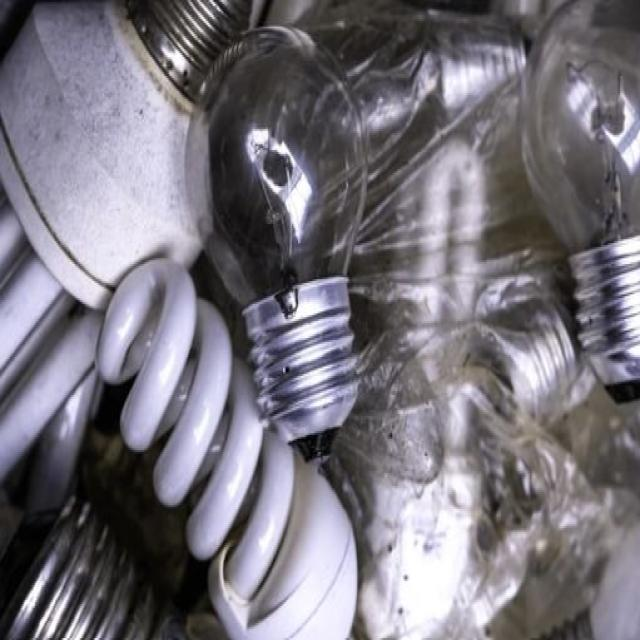electronic: (0, 0, 639, 638), (518, 0, 638, 253)
